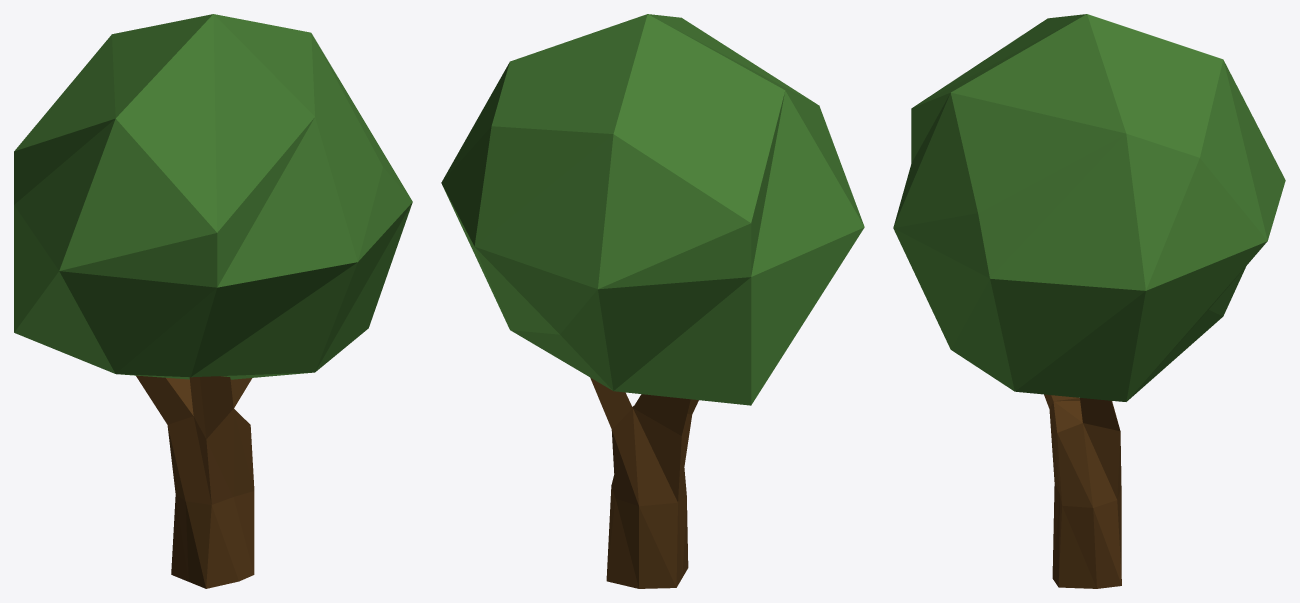
Rendered from tree-oak-v1.glb.
The picture shows the model from 3 angles, left to right: view 1: azimuth 30°, elevation 25°; view 2: azimuth 150°, elevation 25°; view 3: azimuth 270°, elevation 25°; orthographic projection.
Parts seen in each view (by area): view 1: Oak Tree (LowPoly)-material0-lod0, Oak Tree (LowPoly)-material1-lod0; view 2: Oak Tree (LowPoly)-material0-lod0, Oak Tree (LowPoly)-material1-lod0; view 3: Oak Tree (LowPoly)-material0-lod0, Oak Tree (LowPoly)-material1-lod0.
Part boxes in pixels (x1,y1,x2,y2): Oak Tree (LowPoly)-material0-lod0: [14, 14, 412, 379]; Oak Tree (LowPoly)-material1-lod0: [136, 375, 254, 588]; Oak Tree (LowPoly)-material0-lod0: [441, 14, 864, 405]; Oak Tree (LowPoly)-material1-lod0: [590, 377, 698, 588]; Oak Tree (LowPoly)-material0-lod0: [893, 14, 1285, 401]; Oak Tree (LowPoly)-material1-lod0: [1044, 394, 1121, 588].
Size of what is drawn, in the model's own units: 0.6782 by 1 by 0.6347.
